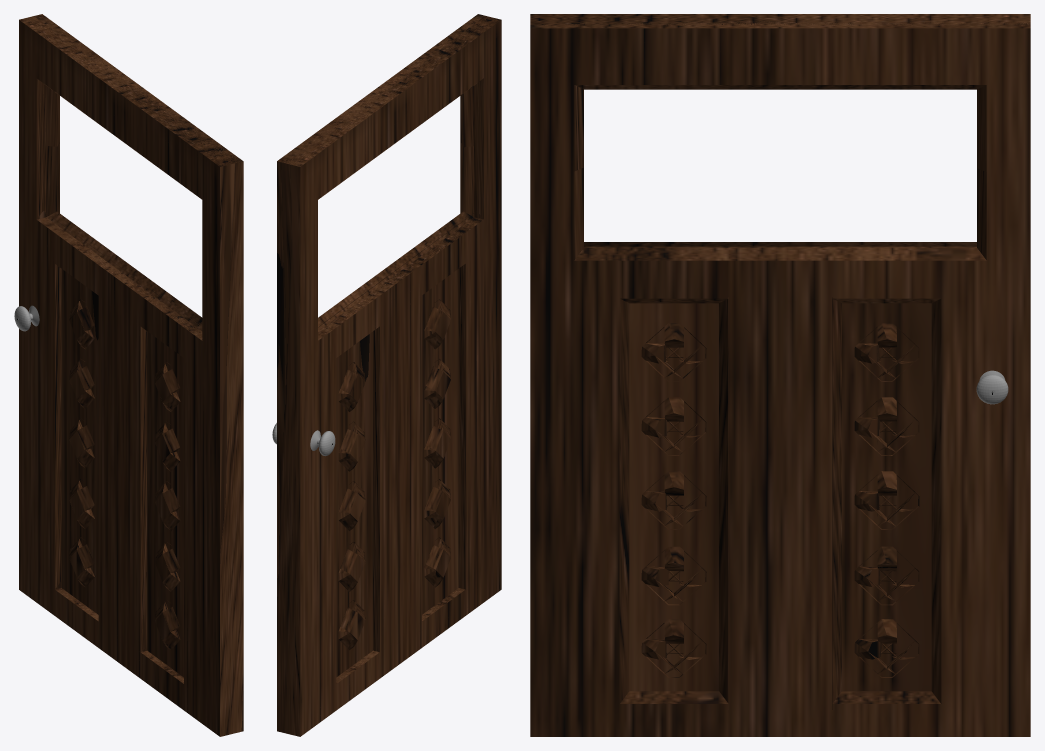
Rendered from door (1).fbx.
3 renders of one model, left to right at view 1: azimuth 30°, elevation 25°; view 2: azimuth 150°, elevation 25°; view 3: azimuth 270°, elevation 25°, orthographic. The views are drawn at different scales.
Visible parts, largest first — view 1: Cone; view 2: Cone; view 3: Cone.
Boxes of the visible parts, bbox=[...] form: Cone: bbox=[14, 14, 243, 736]; Cone: bbox=[272, 14, 501, 736]; Cone: bbox=[530, 14, 1030, 736].
Bounding box in the file's own units: 50.33 × 479 × 306.
3 materials, 1 textured.
